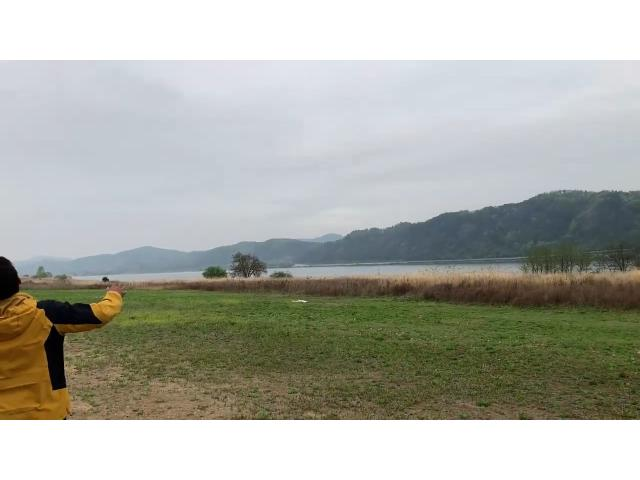Anti-Drone: (282, 291, 322, 309)
